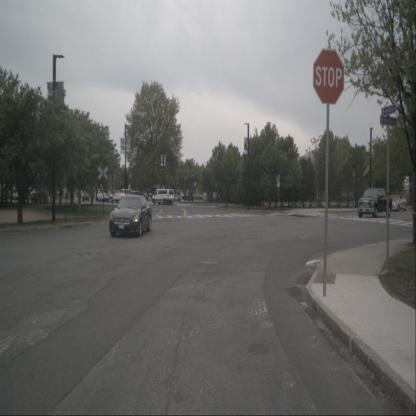vehicle-car: (109, 195, 152, 237), (386, 194, 408, 212), (152, 188, 174, 204), (110, 189, 131, 203), (96, 188, 110, 202), (193, 193, 205, 200), (82, 192, 90, 201)
vehicle-truck: (358, 188, 392, 218)
